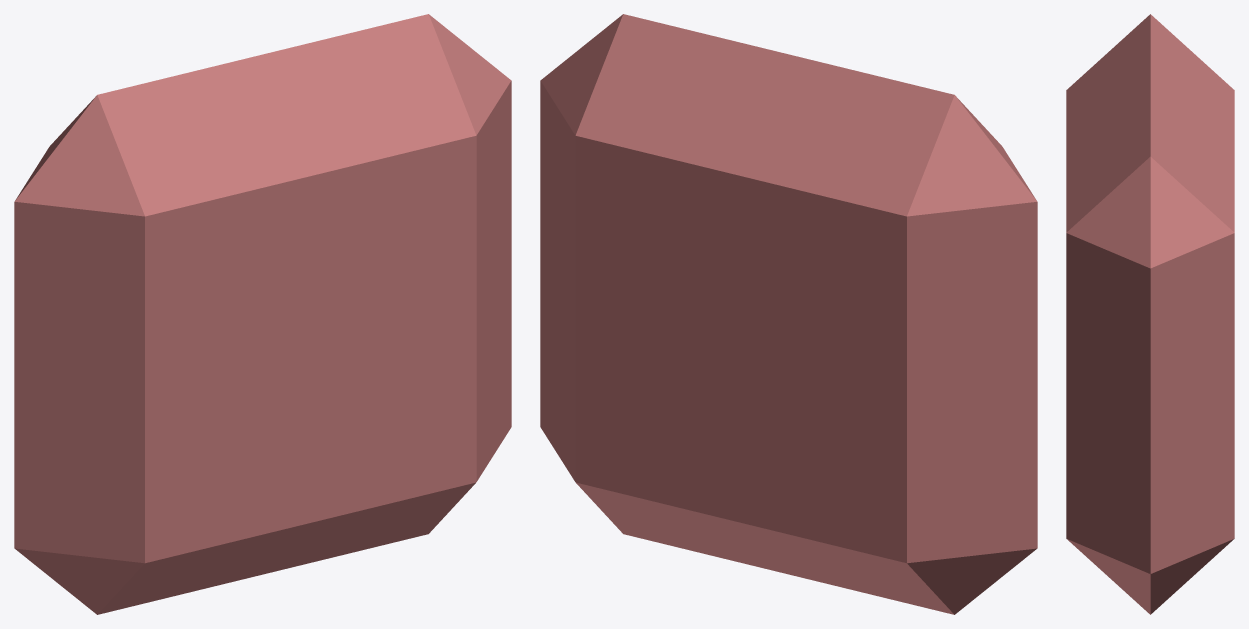
Rendered from Pig_Hand.glb.
3 renders of one model, left to right at view 1: azimuth 30°, elevation 25°; view 2: azimuth 150°, elevation 25°; view 3: azimuth 270°, elevation 25°, orthographic. The views are drawn at different scales.
Parts seen in each view (by area): view 1: pl0; view 2: pl0; view 3: pl0.
Part boxes in pixels (left/top/right/bottom): pl0: left=14, top=14, right=511, bottom=614; pl0: left=540, top=14, right=1037, bottom=614; pl0: left=1066, top=14, right=1234, bottom=614.
Size of the model in its own units: 0.3 by 0.3 by 0.1.
1 material, 1 textured.
